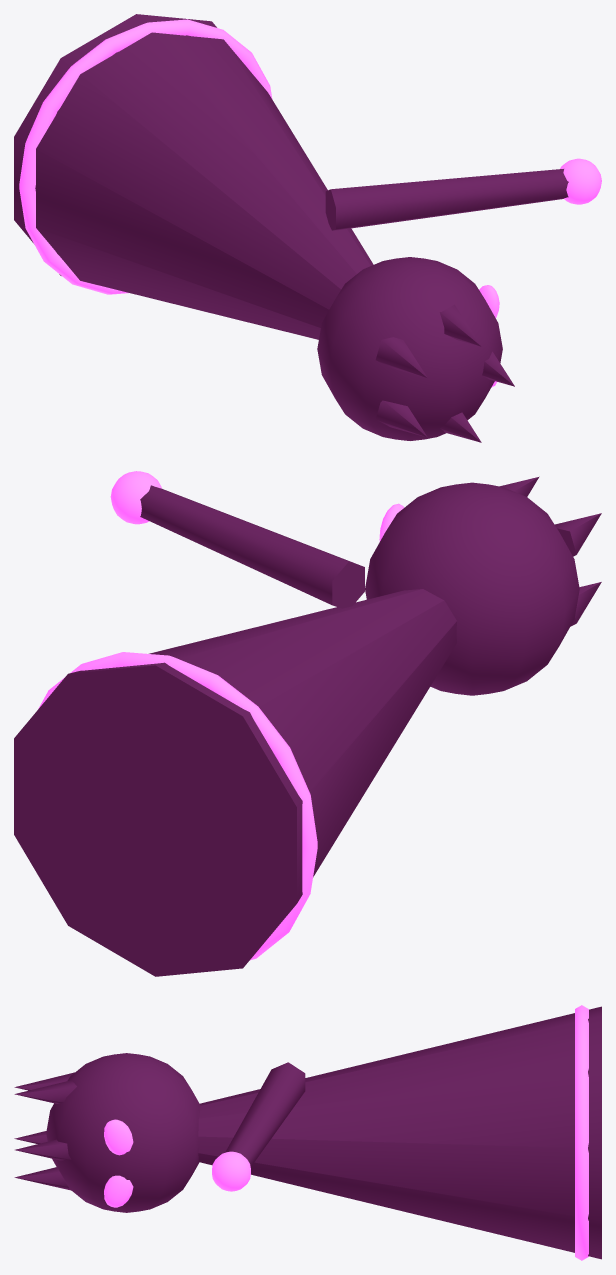
File: trauma-oskarzyciel.glb
The picture shows the model from 3 angles, top to bottom: view 1: azimuth 30°, elevation 25°; view 2: azimuth 150°, elevation 25°; view 3: azimuth 270°, elevation 25°; orthographic projection. The views are drawn at different scales.
Visible parts, largest first — view 1: Shadow, Glow; view 2: Shadow, Glow; view 3: Shadow, Glow.
Part boxes in pixels (left/top/right/bottom): Shadow: left=14, top=14, right=568, bottom=442; Glow: left=19, top=19, right=601, bottom=387; Shadow: left=14, top=476, right=601, bottom=976; Glow: left=38, top=471, right=404, bottom=960; Shadow: left=14, top=1006, right=601, bottom=1259; Glow: left=104, top=1005, right=588, bottom=1260.
Size of the model in its own units: 0.94 by 0.64 by 1.46.
